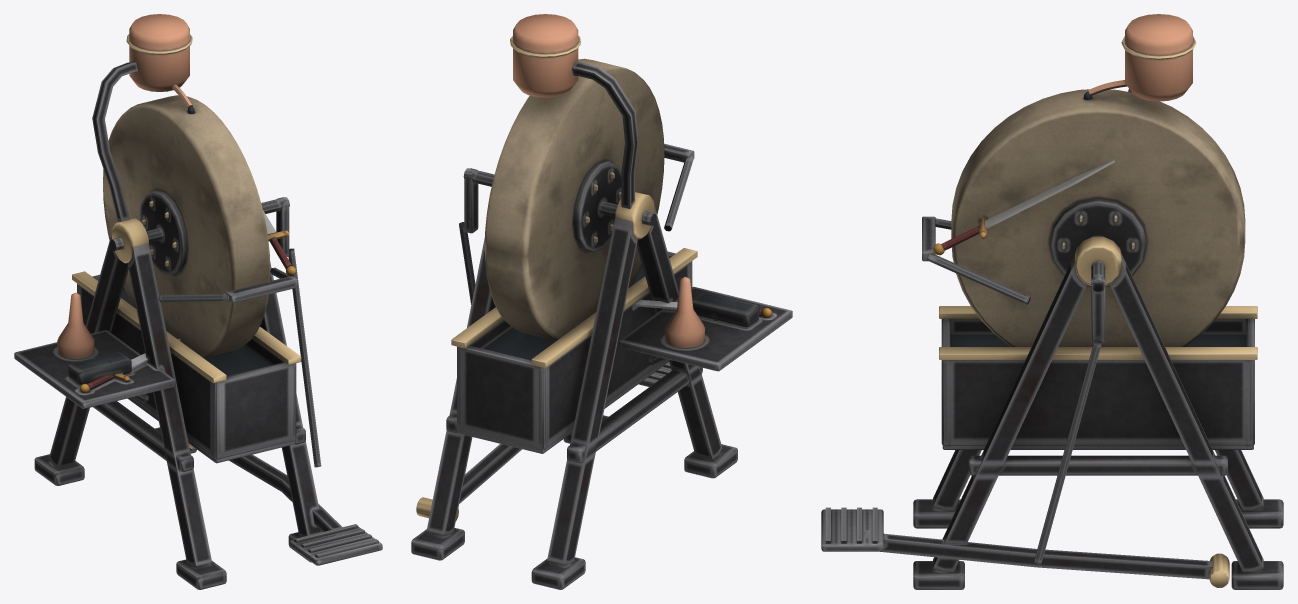
File: Grindstone.fbx
3 renders of one model, left to right at view 1: azimuth 30°, elevation 25°; view 2: azimuth 150°, elevation 25°; view 3: azimuth 270°, elevation 25°, orthographic. The views are drawn at different scales.
Parts seen in each view (by area): view 1: Grindstone; view 2: Grindstone; view 3: Grindstone.
Part boxes in pixels (<box>): Grindstone: <box>14,14,382,589</box>; Grindstone: <box>411,14,792,589</box>; Grindstone: <box>821,14,1283,589</box>.
Size of the model in its own units: 195 by 335 by 267.
